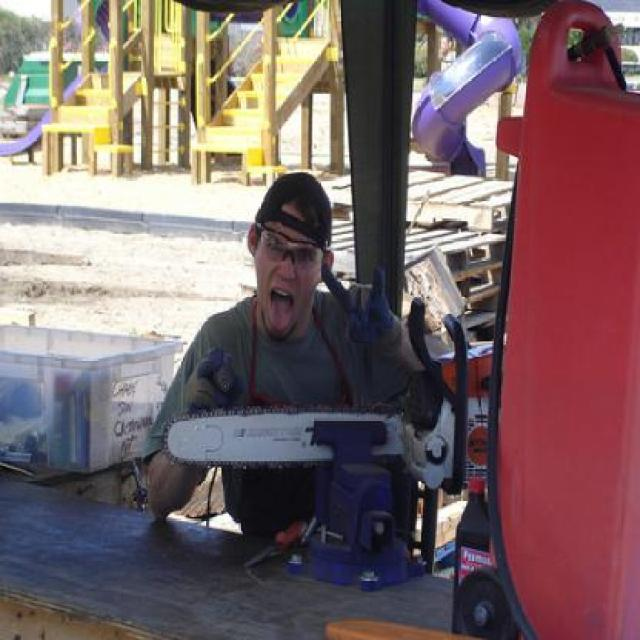Chainsaw: (162, 297, 468, 592)
